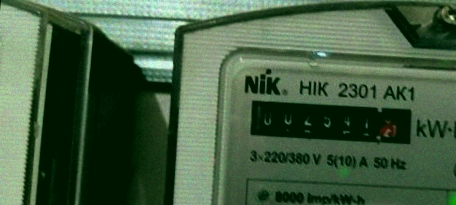0: (259, 104, 273, 126), (280, 104, 293, 125)
1: (359, 110, 371, 130)
2: (300, 106, 313, 127)
4: (340, 107, 353, 129)
5: (319, 106, 332, 129)
6: (380, 123, 392, 139)
screen: (238, 88, 423, 153)
